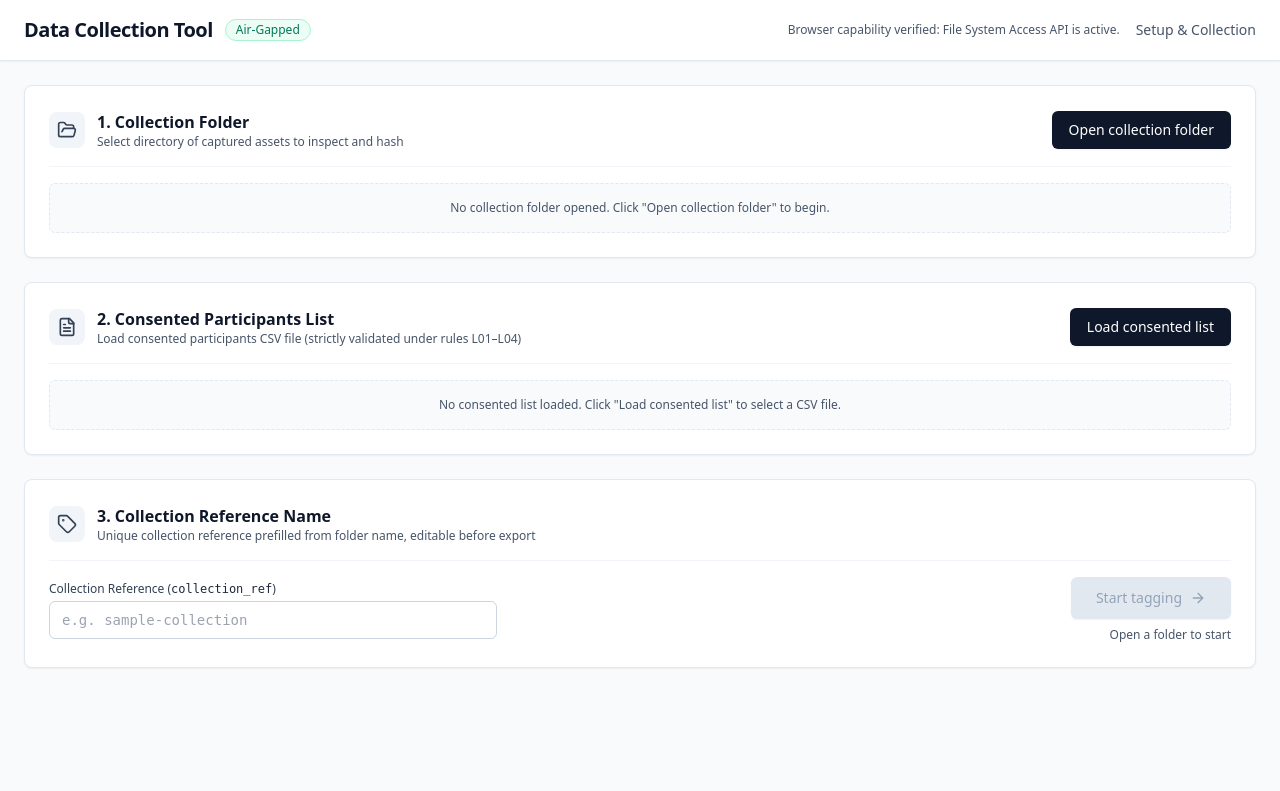
Test: Adversarial Stress Harness: Milestone 4 Start Screen & State Pipeline › Challenge 5: User cancellation (AbortError) handling in directory picker › 5.3: Non-AbortError on "Change folder" surfaces descriptive warning callout
This screenshot has width=1280, height=791.
Click the button with test id "open-folder-button". click: (1141, 130)
box: x1=1052 y1=111 x2=1231 y2=149
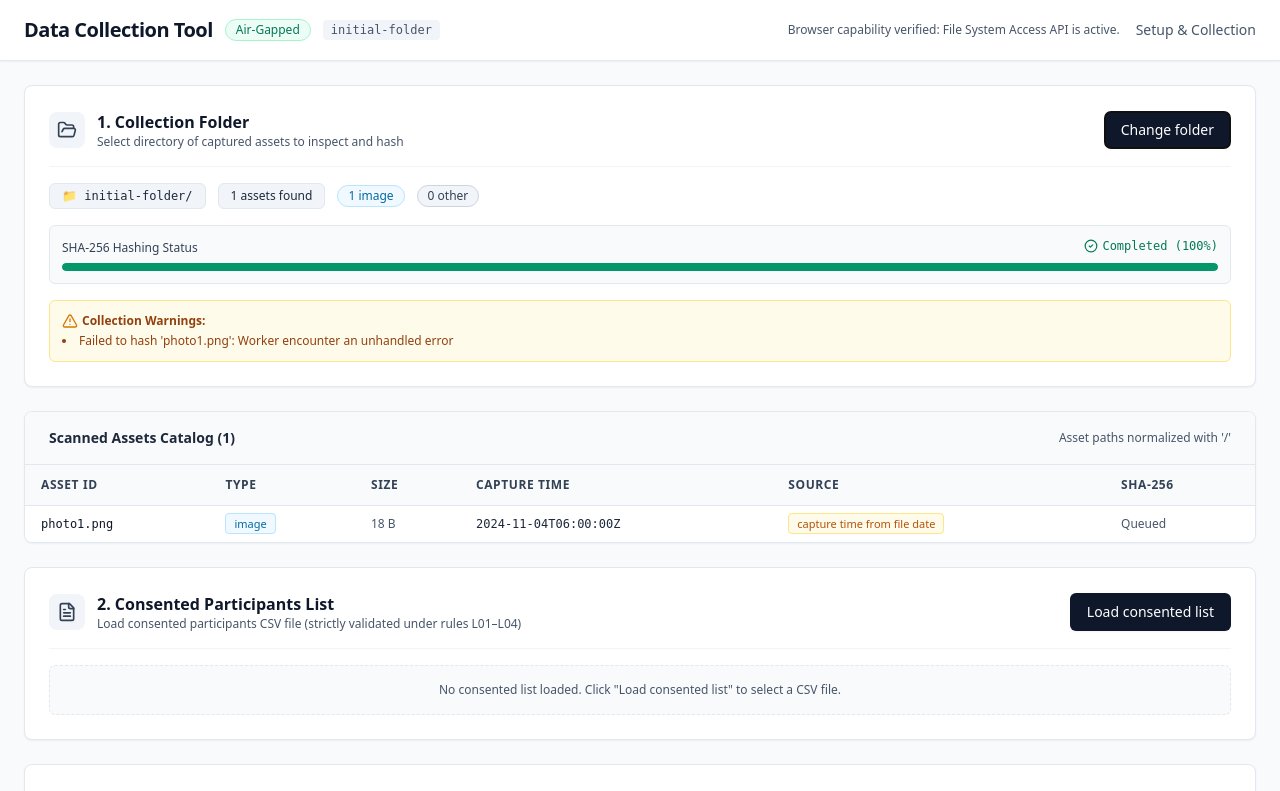
Now the text with test id "folder-name" shows "initial-folder", box x1=84 y1=189 x2=185 y2=203
Click the button with test id "open-folder-button". click: (1167, 130)
box: x1=1104 y1=111 x2=1231 y2=149
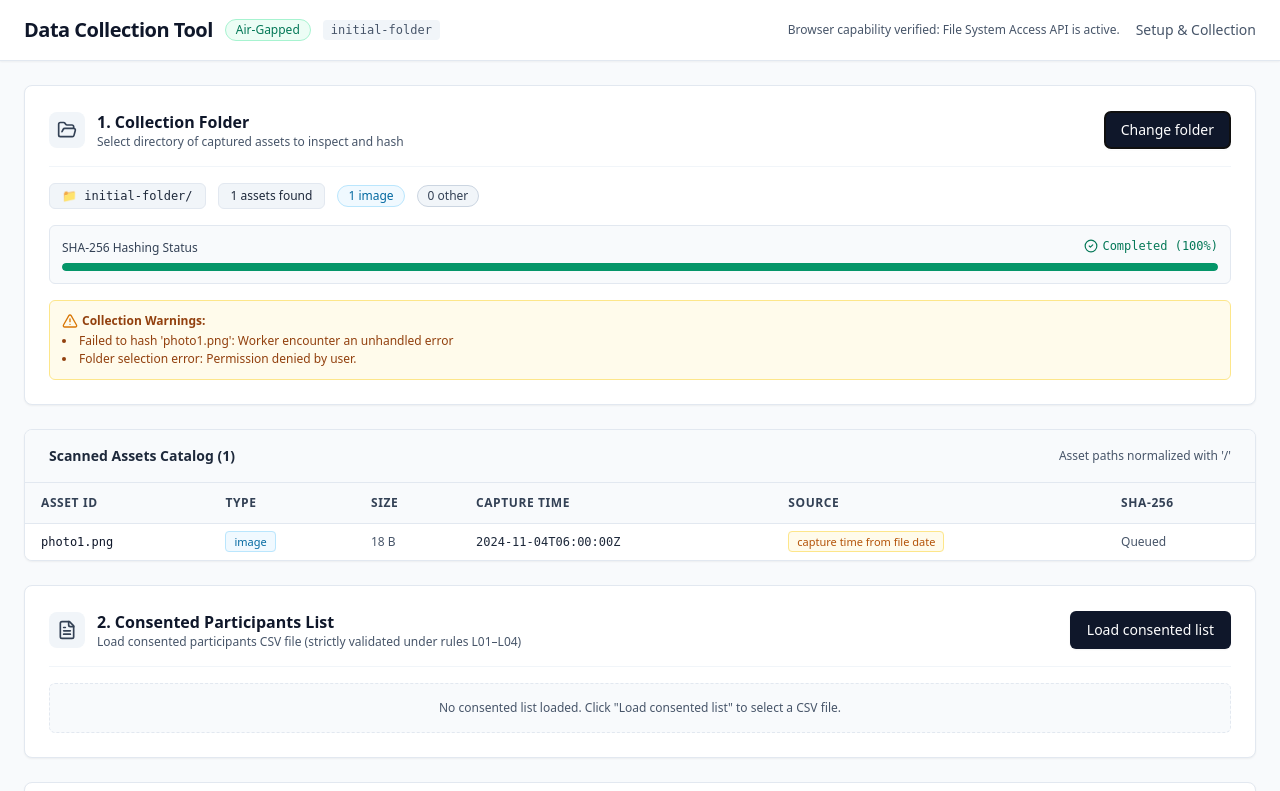
Now the element with test id "folder-warnings-callout" is shown, box x1=49 y1=300 x2=1231 y2=380
Now the element with test id "folder-warnings-callout" shows "Folder selection error", box x1=79 y1=350 x2=356 y2=367
